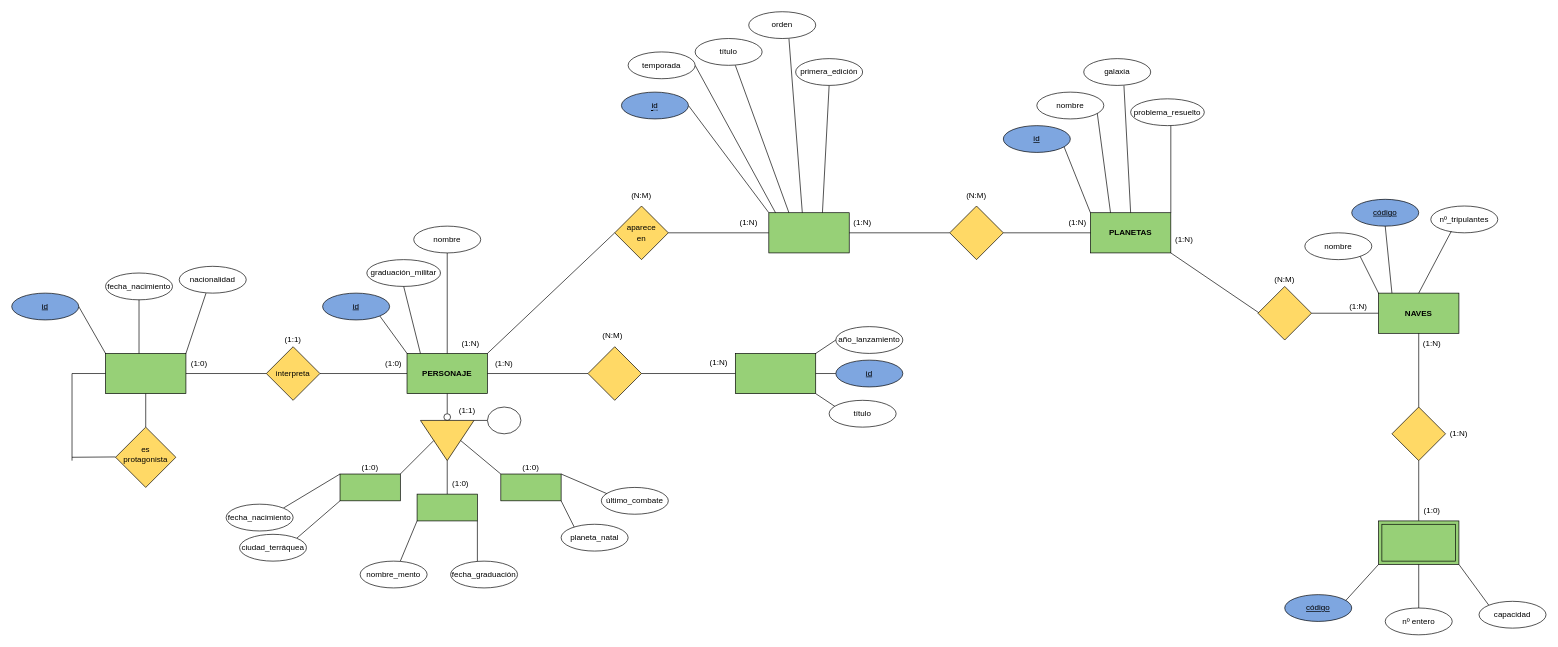
Image size: 1558x647. Some labels were removed from this diagram. Here are the shapes that lost their labels. From the top down, the centre of each, then its label:
At pixel 808 232: "CAPÍTULOS".
At pixel 976 232: "donde visitan".
At pixel 1284 313: "viajan en".
At pixel 145 373: "ACTOR".
At pixel 614 373: "sale en".
At pixel 775 373: "PELÍCULA".
At pixel 504 420: "tipo".
At pixel 1418 433: "pertenecen a".
At pixel 369 487: "humano".
At pixel 446 507: "vulcano".
At pixel 530 487: "klingon".
At pixel 1418 542: "LANZADERA".
